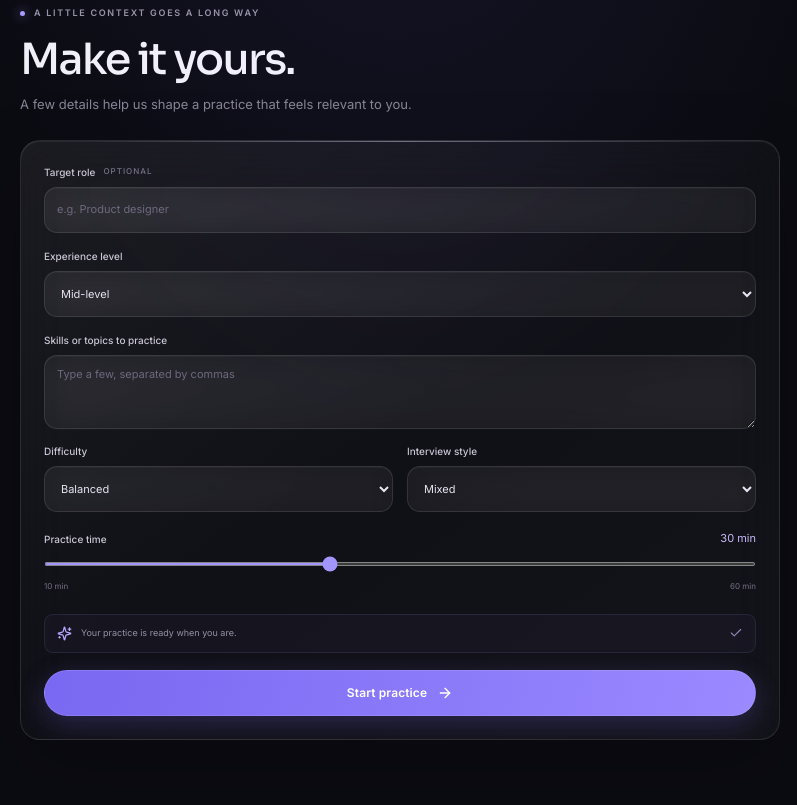
Test: Random setup › keeps the form and shows an error on failure
(page scrolled)
Click the button "Start practice".
click(400, 693)  # box [44,670,756,716]
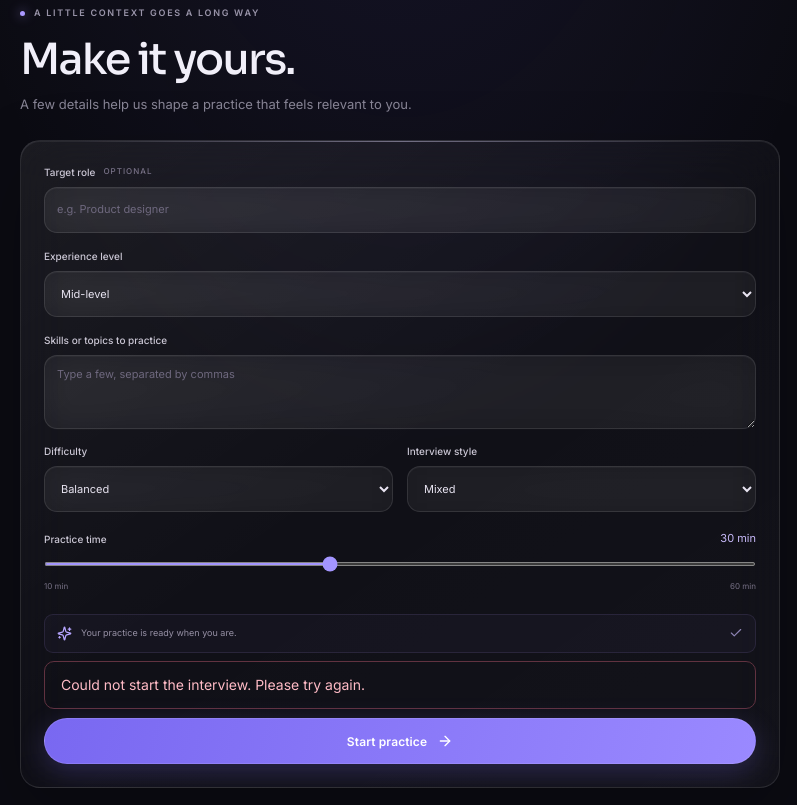
Expected: the button "Start practice" is enabled, [44,718,756,764]
Expected: the message shows "Could not start", [61,676,365,693]
